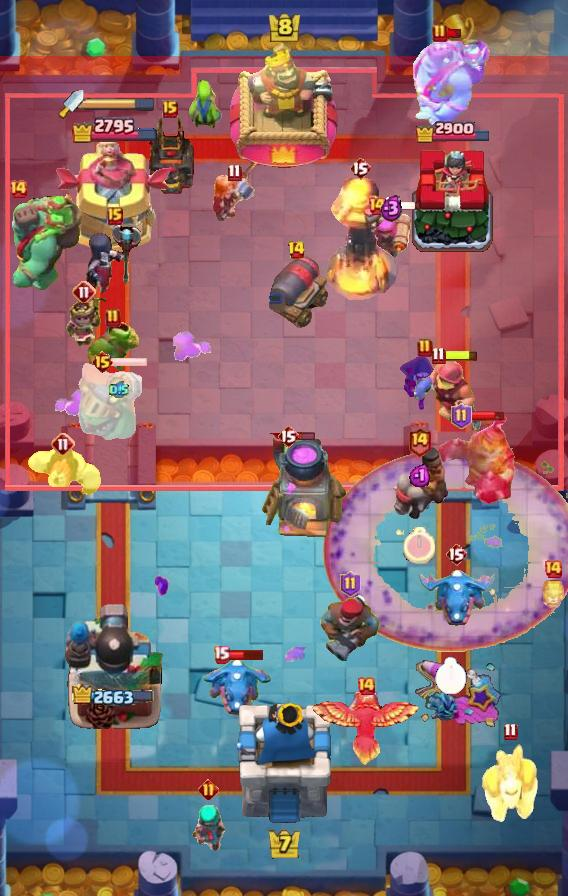archer-evolution: (143, 113, 197, 195)
bar: (55, 142, 173, 256)
bomber-evolution: (62, 298, 106, 350)
electro-dragon: (320, 175, 400, 303)
electro-spirit: (381, 194, 404, 222), (410, 463, 431, 487), (109, 381, 129, 399)
elite-barbarian: (388, 445, 450, 521)
elixir: (403, 527, 435, 565), (435, 657, 467, 695)
elixir-golem-small: (479, 744, 541, 824)
emote: (228, 648, 265, 661), (443, 349, 479, 362), (111, 356, 148, 368), (469, 410, 505, 422), (386, 201, 423, 212), (296, 431, 315, 441), (446, 28, 463, 39)
fireball: (411, 360, 483, 434)
flying-machine: (85, 317, 141, 375)
golden-knight: (310, 689, 422, 769)
graveyard: (417, 567, 495, 629), (201, 655, 273, 719)
hog-rider: (212, 174, 256, 224)
hunter: (258, 433, 348, 541)
ice-spirit-evolution: (539, 572, 567, 608)
king-tower: (230, 43, 338, 181), (235, 703, 333, 826)
king-tower-bar: (84, 97, 156, 111)
lava-hound: (0, 190, 84, 296), (410, 37, 492, 133)
night-witch: (75, 358, 163, 442)
phoenix-small: (317, 593, 383, 663)
queen-tower: (410, 144, 496, 255)
rage: (25, 446, 101, 502)
rascal-boy: (85, 222, 145, 298)
rocket: (324, 448, 568, 652)
royal-giant-evolution: (262, 255, 330, 329)
royal-guardian: (436, 414, 516, 506)
selected: (69, 115, 158, 143), (72, 684, 156, 709), (414, 119, 492, 143)
tesla: (399, 354, 451, 414)
text: (408, 427, 433, 458), (72, 280, 96, 304), (51, 432, 75, 456), (90, 350, 113, 374), (451, 403, 472, 429), (339, 571, 360, 597), (349, 156, 371, 180), (277, 424, 299, 448), (445, 542, 467, 566), (197, 779, 218, 800), (8, 179, 28, 199), (367, 196, 387, 216), (543, 559, 563, 579), (356, 676, 376, 696), (287, 240, 306, 260), (213, 645, 231, 664), (432, 23, 448, 43), (105, 308, 121, 328), (417, 338, 433, 358), (162, 100, 178, 118), (107, 207, 123, 225), (431, 346, 446, 365), (502, 722, 517, 741), (227, 162, 241, 181)
tombstone: (370, 209, 414, 259)
tower-bar: (64, 601, 164, 731)
witch: (188, 804, 228, 854)
zap: (184, 79, 224, 131)
